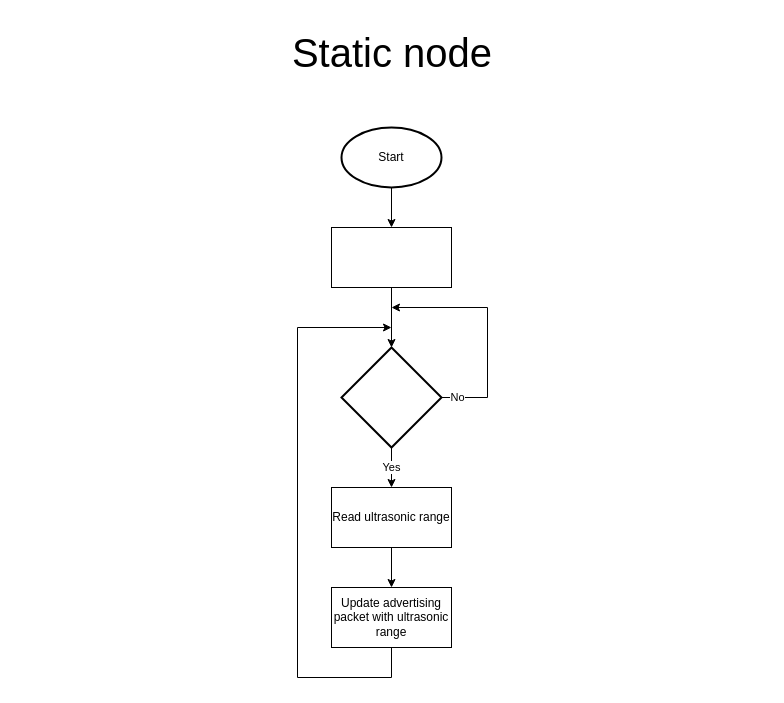
Image size: 784x703. Some labels were removed from this diagram. The box of each missing label's shape, as (x1, y1, x2, y2) in pixels:
Initialise Bluetooth Advertising: (330, 226, 452, 288)
Ultrasonic Node?: (340, 346, 442, 448)
